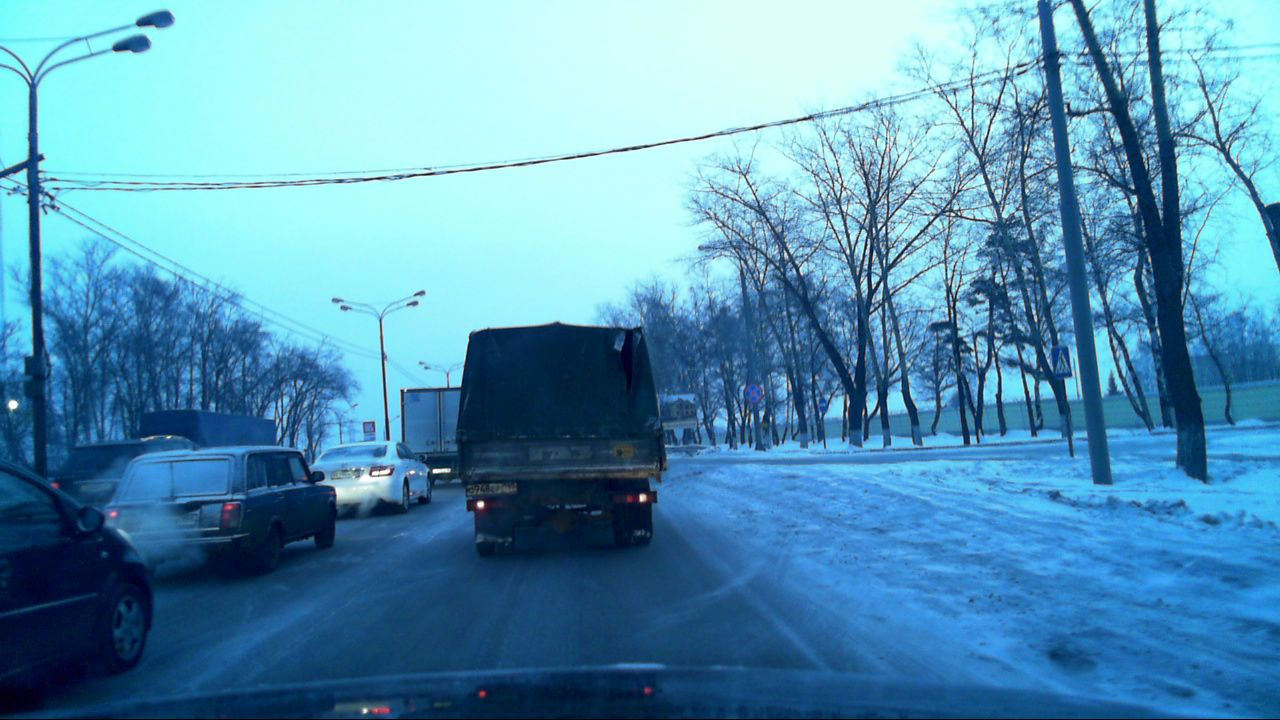No Parking: (743, 383, 762, 403)
